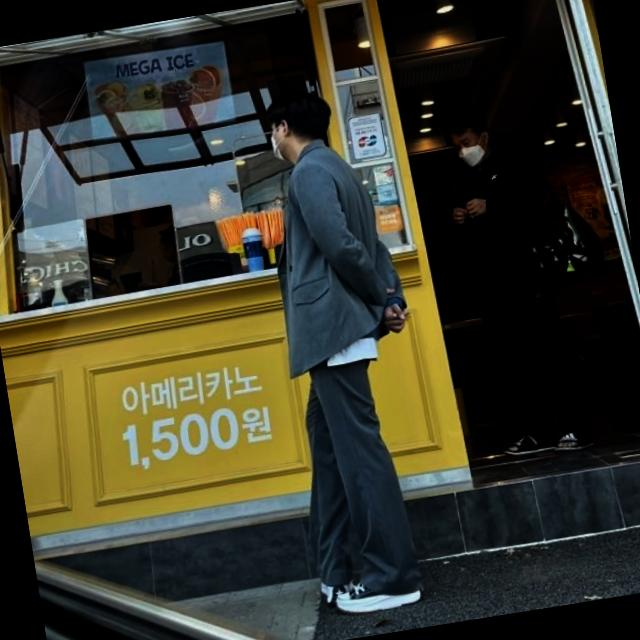blazer: (252, 126, 415, 380)
slacks: (278, 326, 428, 602)
